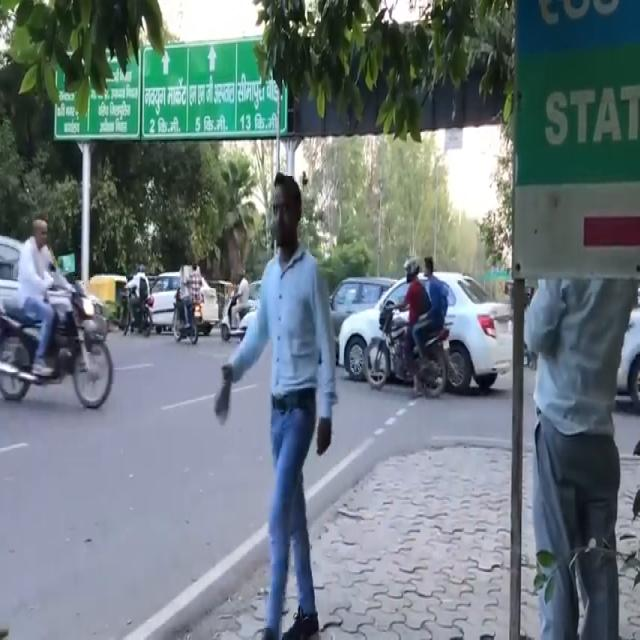MOTORCYCLE: (0, 278, 112, 417), (363, 302, 448, 398), (177, 291, 209, 348)
